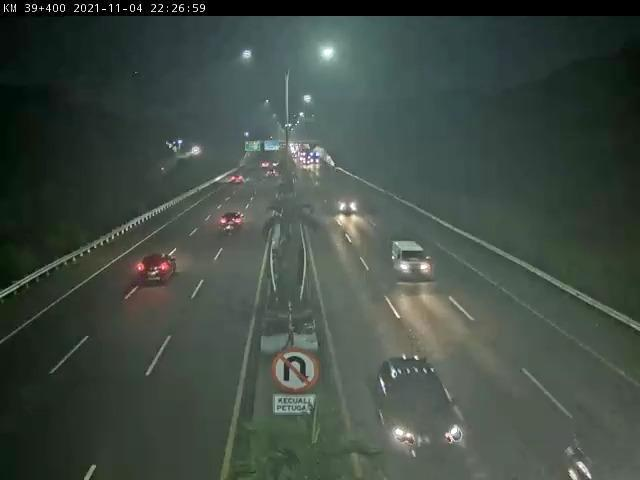car: (377, 357, 463, 466), (393, 239, 435, 283), (137, 256, 178, 284), (219, 213, 243, 234)
